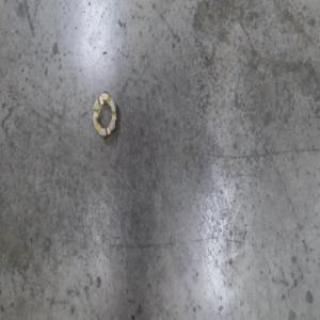Nuttrack_idkeyframe: (90, 87, 119, 139)
